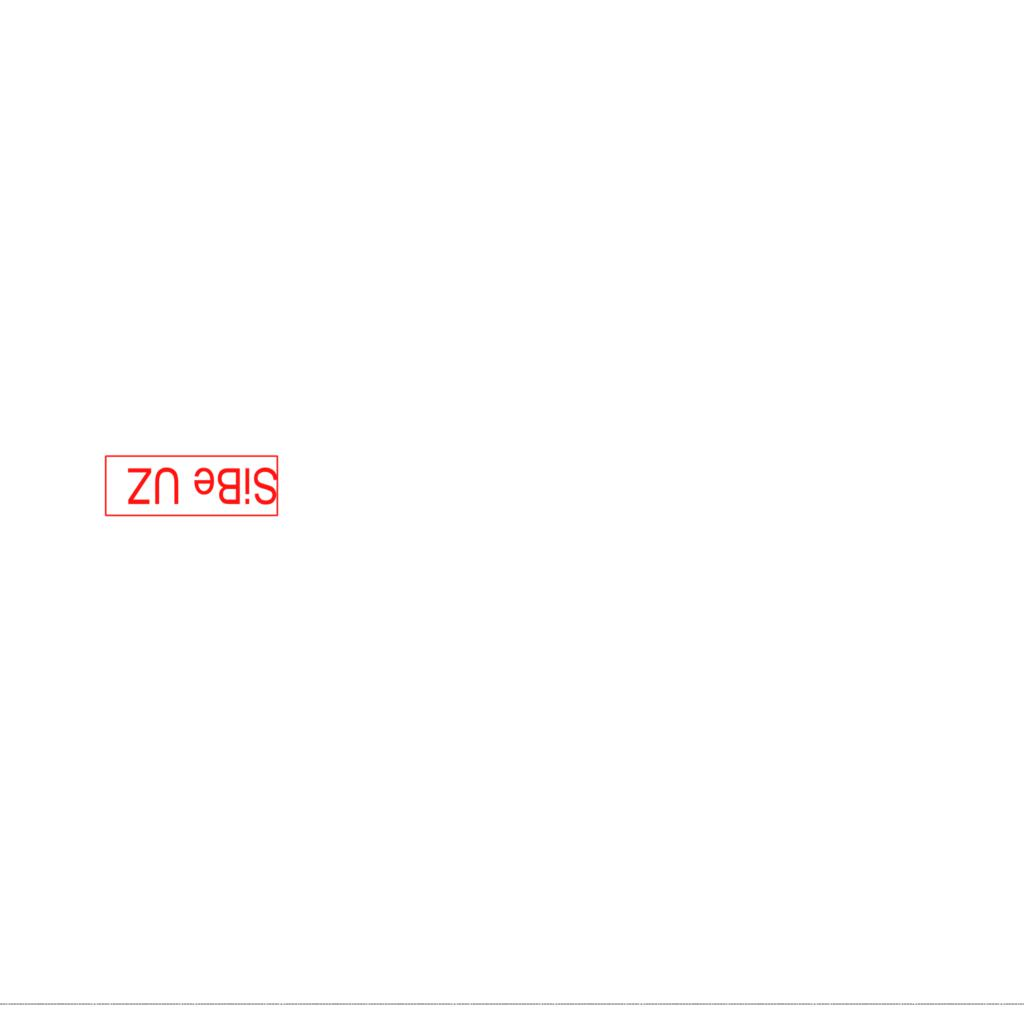Zentrale_Sicherheitsbeleuchtung: (102, 453, 280, 518)
